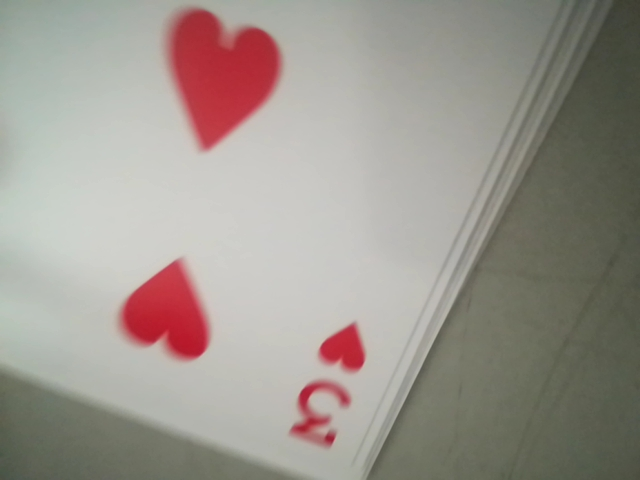hx 3: (285, 320, 381, 461)
